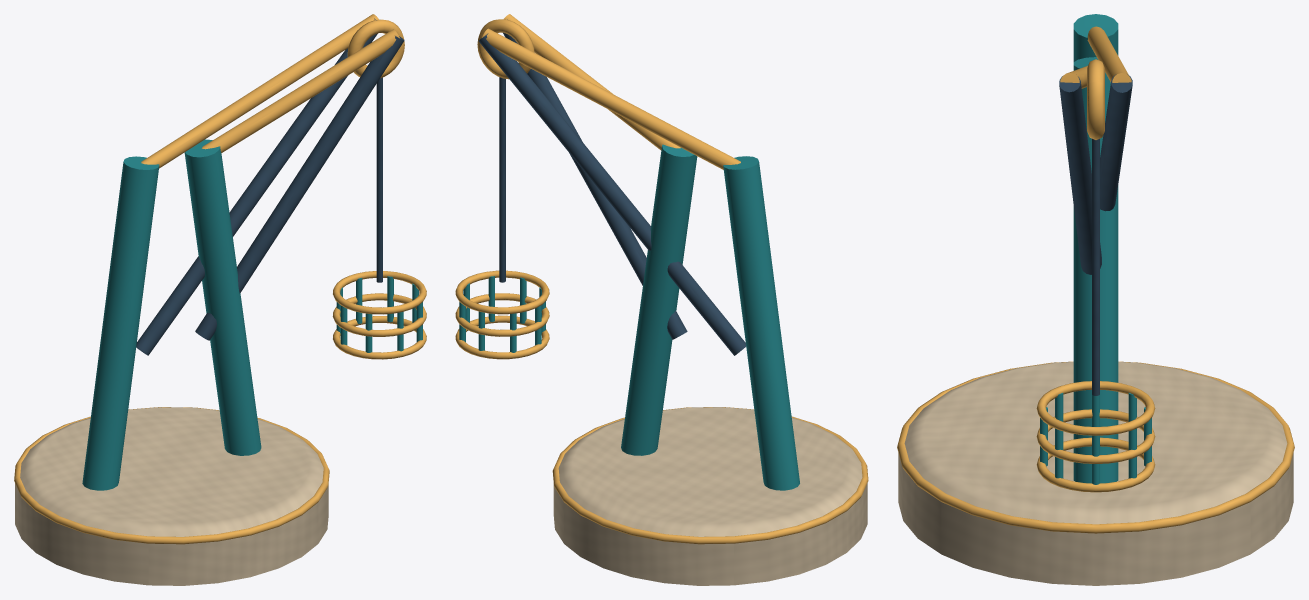
Rendered from sonnenhafen.glb.
3 views of the same model, side by side, from view 1: azimuth 30°, elevation 25°; view 2: azimuth 150°, elevation 25°; view 3: azimuth 270°, elevation 25° (orthographic). The views are drawn at different scales.
Visible parts, largest first — view 1: sonnenhafen_lod0; view 2: sonnenhafen_lod0; view 3: sonnenhafen_lod0.
Boxes of the visible parts, x1,y1,x2,y2 form: sonnenhafen_lod0: [14, 14, 426, 585]; sonnenhafen_lod0: [455, 14, 868, 585]; sonnenhafen_lod0: [897, 14, 1294, 585].
Size of what is drawn, in the model's own units: 10.76 by 11.98 by 7.65.
Materials: 4 (4 with a texture image).
